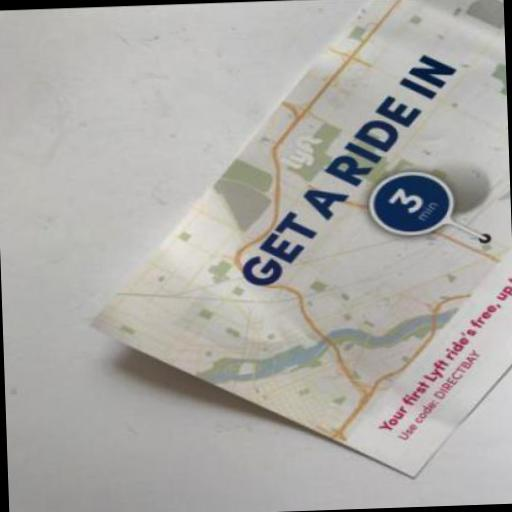paper: (83, 0, 512, 486)
